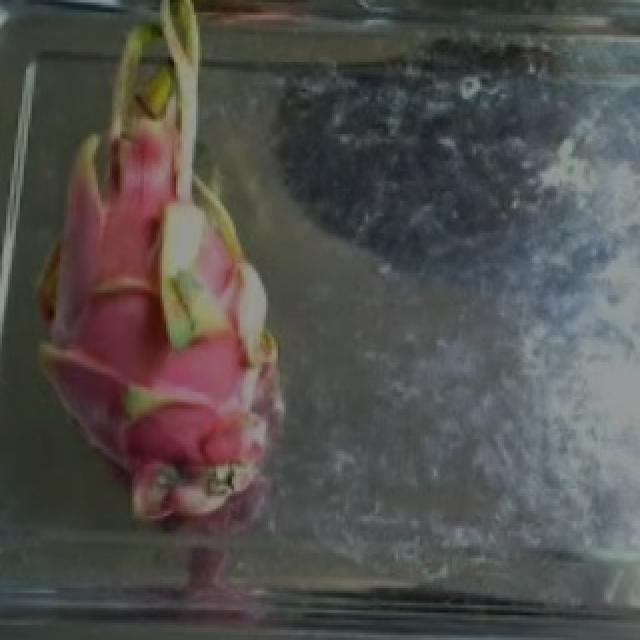fruit: (0, 5, 302, 434)
